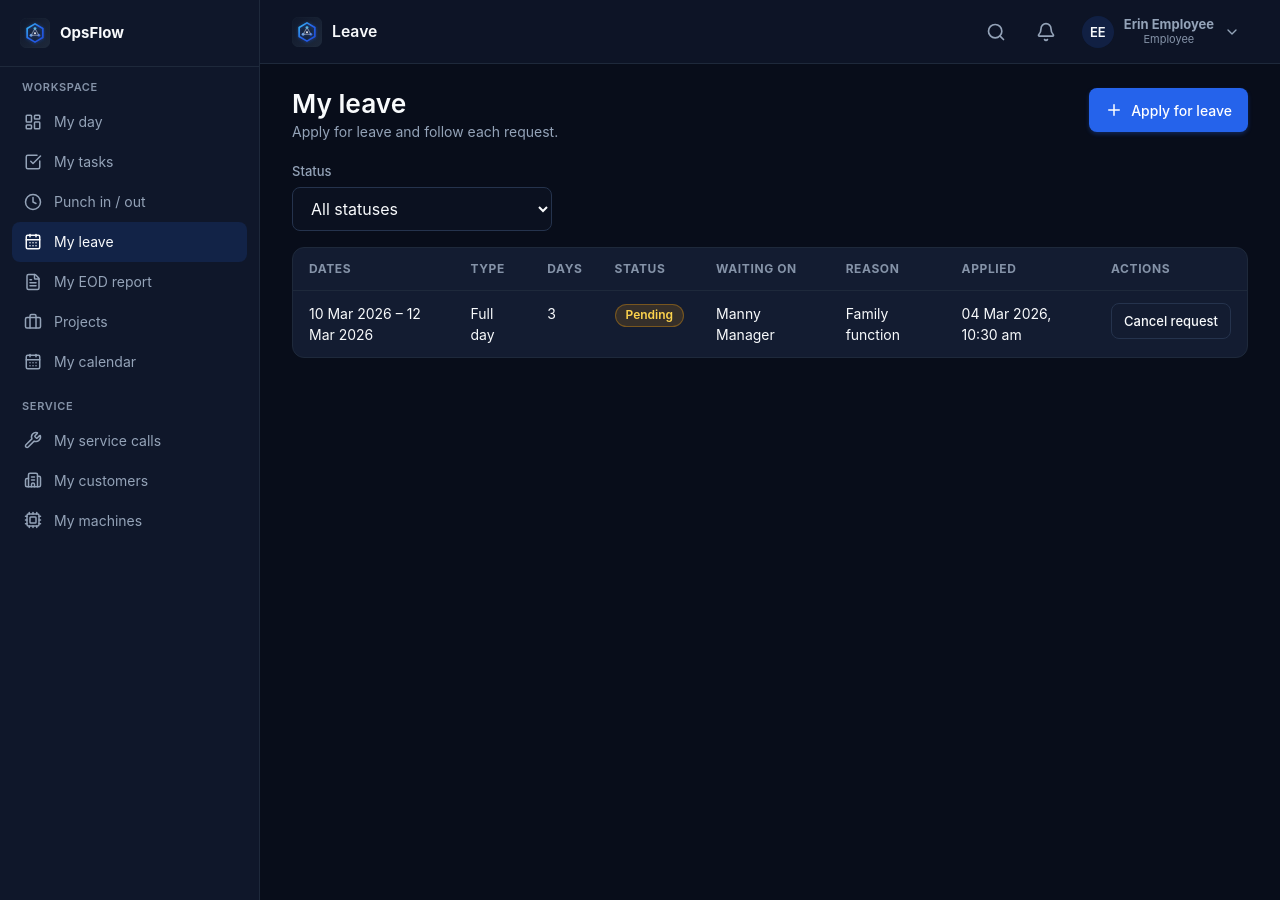
My leave › cancels a pending request only after confirmation
Step 1. Click the button "Cancel request" → {"x": 1171, "y": 321}, box [1111,303,1231,339]
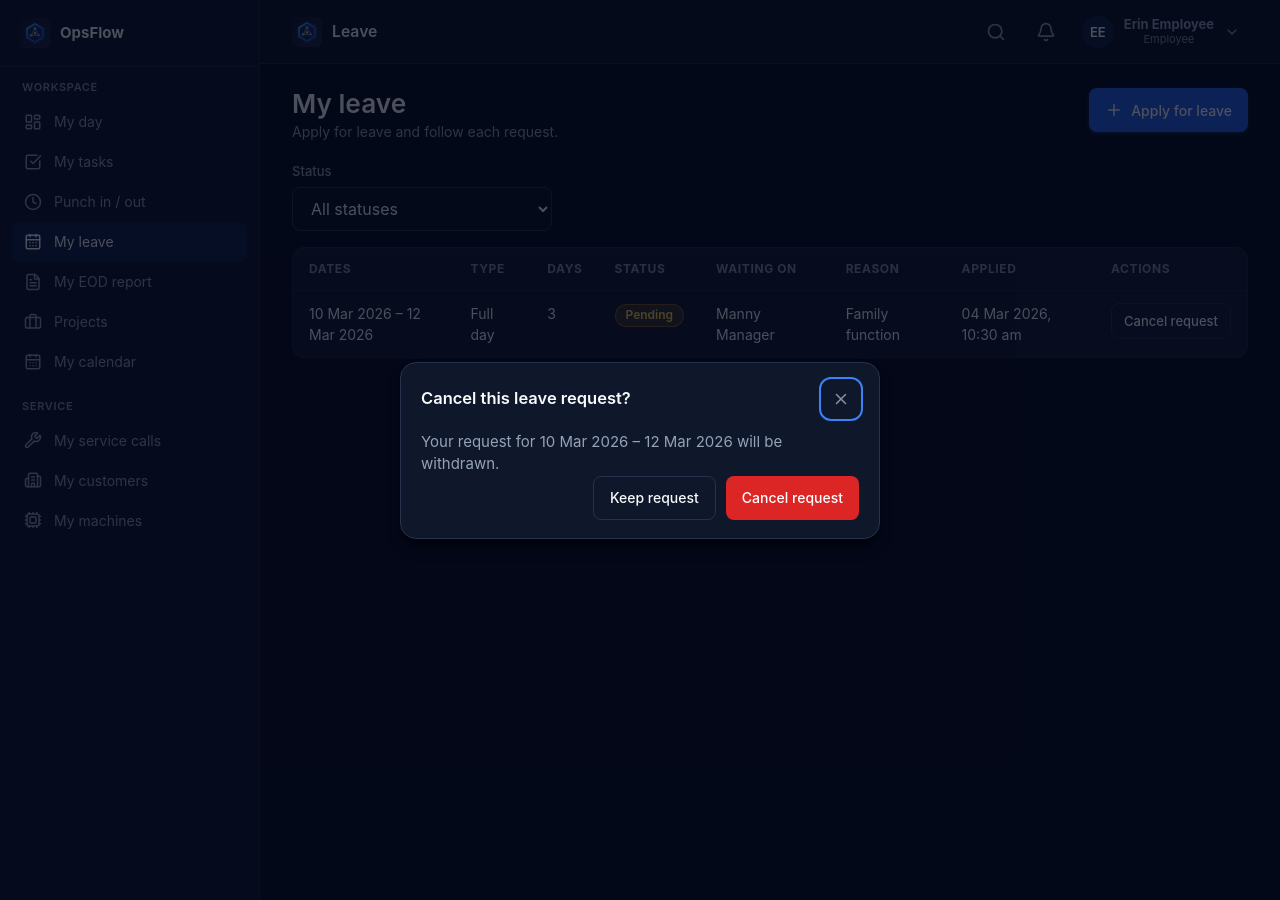
Step 2. Click the button "Keep request" → {"x": 654, "y": 498}, box [593,476,716,520]
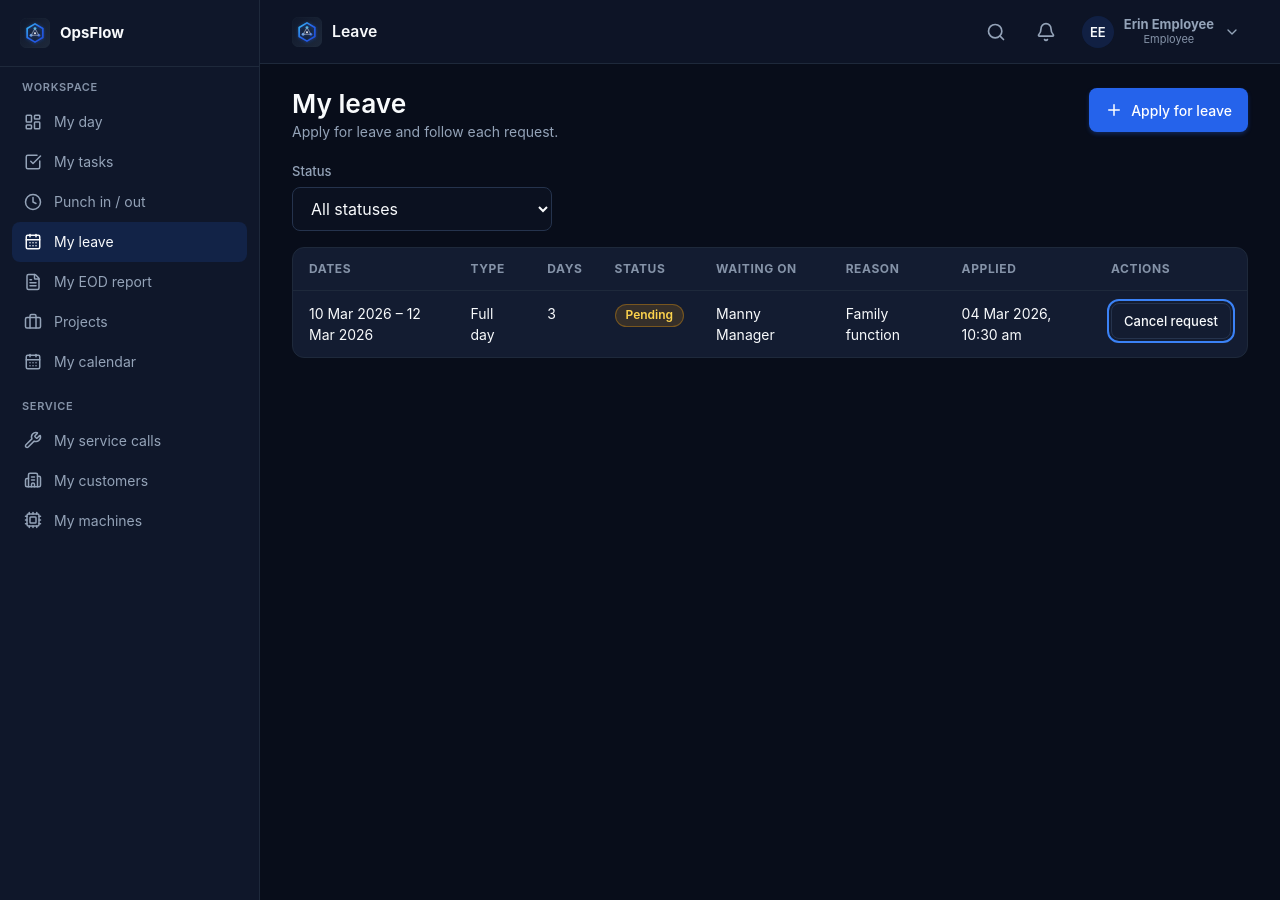
Step 3. Click the button "Cancel request" → {"x": 1171, "y": 321}, box [1111,303,1231,339]
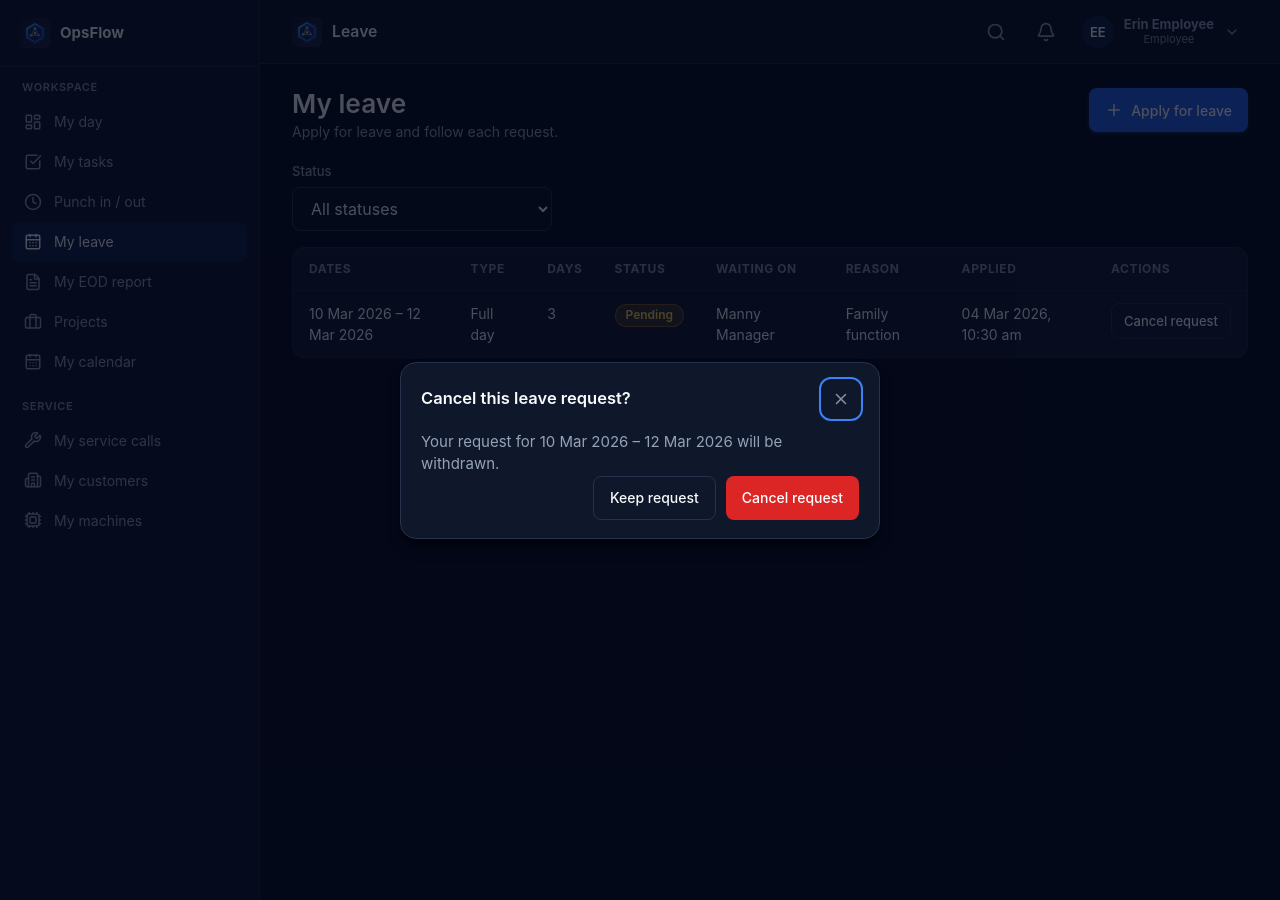
Step 4. Click the button "Cancel request" → {"x": 792, "y": 498}, box [726,476,859,520]
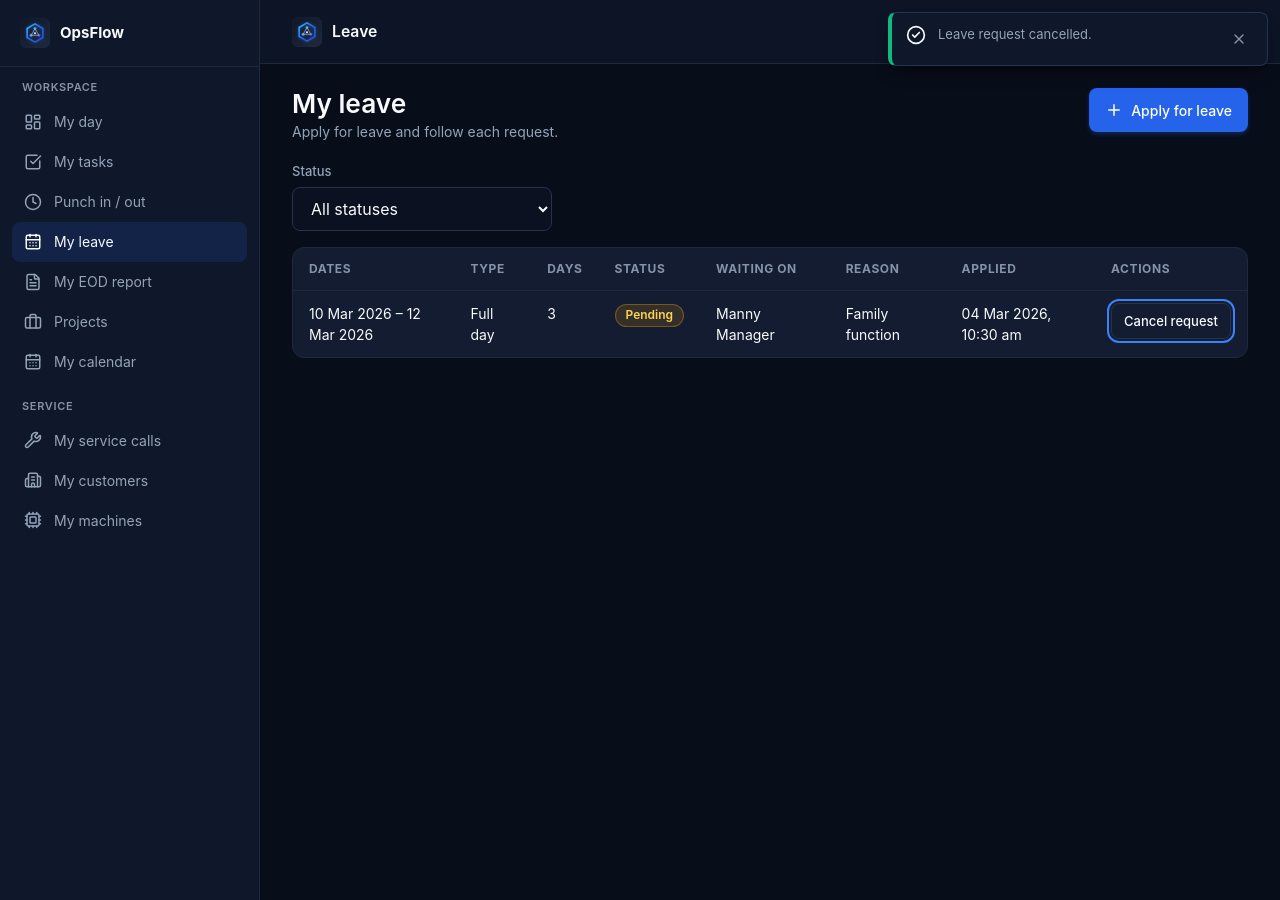
Expected: the text "Leave request cancelled." is shown, [938,26,1092,42]
